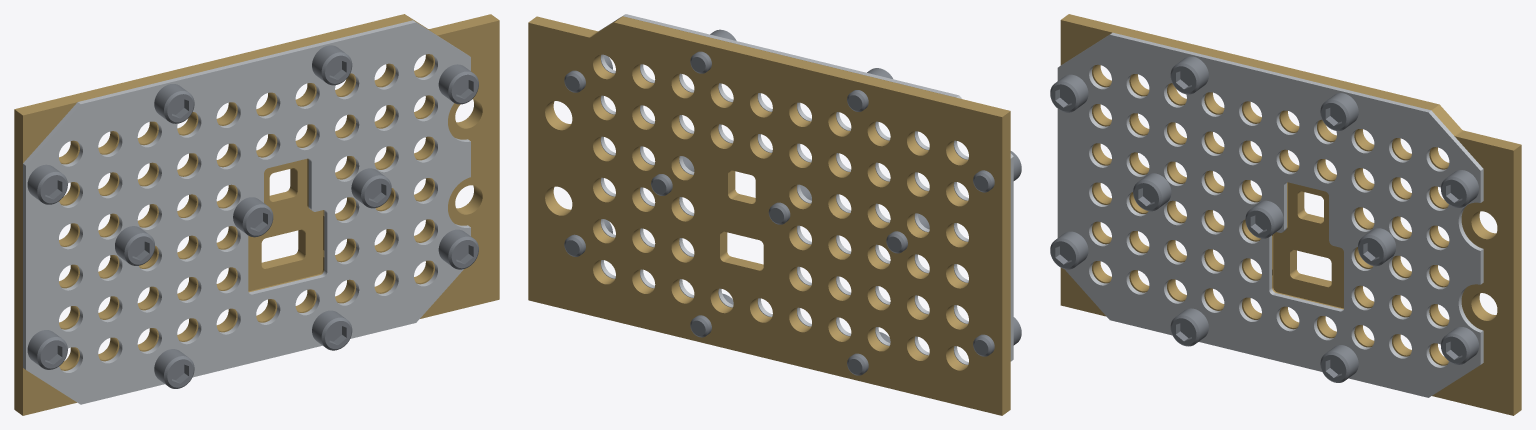
Rendered from assembly.glb.
3 renders of one model, left to right at view 1: azimuth 30°, elevation 25°; view 2: azimuth 150°, elevation 25°; view 3: azimuth 330°, elevation 25°, orthographic. The views are drawn at different scales.
Parts seen in each view (by area): view 1: cover, base, screw_07, screw_06, screw_11, screw_08, screw_09, screw_04, screw_01, screw_02, screw_10, screw_05 (+1 smaller); view 2: base, cover, screw_02, screw_04, screw_08, screw_01, screw_03, screw_10, screw_07, screw_11, screw_09, screw_05 (+1 smaller); view 3: cover, base, screw_02, screw_03, screw_04, screw_01, screw_06, screw_05, screw_08, screw_10, screw_07, screw_09 (+1 smaller).
Part boxes in pixels (box(x1,y1,x2,y2)): cover: box(23, 20, 470, 404); base: box(14, 14, 499, 415); screw_07: box(351, 168, 391, 208); screw_06: box(312, 310, 352, 350); screw_11: box(438, 64, 478, 104); screw_08: box(312, 45, 352, 85); screw_09: box(438, 229, 478, 269); screw_04: box(27, 330, 67, 369); screw_01: box(154, 84, 194, 123); screw_02: box(27, 164, 67, 204); screw_10: box(233, 197, 273, 237); screw_05: box(154, 349, 194, 388); base: box(528, 16, 1010, 415); cover: box(599, 14, 1013, 364); screw_02: box(973, 151, 1021, 192); screw_04: box(973, 317, 1021, 356); screw_08: box(690, 29, 736, 73); screw_01: box(847, 68, 892, 111); screw_03: box(886, 213, 929, 253); screw_10: box(768, 185, 811, 224); screw_07: box(651, 156, 694, 195); screw_11: box(564, 55, 612, 92); screw_09: box(564, 219, 612, 256); screw_05: box(847, 332, 890, 375); cover: box(1057, 32, 1483, 397); base: box(1060, 14, 1521, 415); screw_02: box(1050, 74, 1088, 112); screw_03: box(1133, 173, 1171, 211); screw_04: box(1050, 231, 1088, 269); screw_01: box(1170, 56, 1208, 94); screw_06: box(1320, 345, 1358, 382); screw_05: box(1170, 308, 1208, 346); screw_08: box(1320, 93, 1358, 130); screw_10: box(1245, 200, 1283, 238); screw_07: box(1358, 228, 1396, 266); screw_09: box(1440, 327, 1478, 364).
Size of the model in its own units: 0.0552 by 0.0333 by 0.00536.
